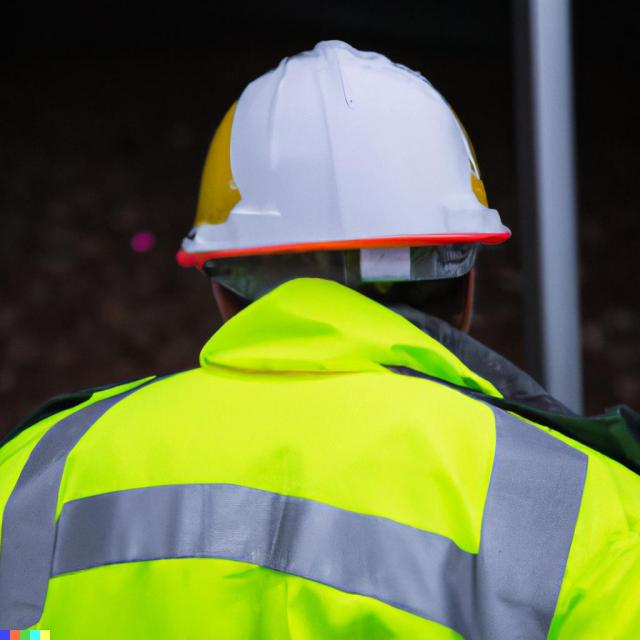Reflective-Jacket: (0, 286, 611, 639)
Safety-Helmet: (175, 43, 518, 261)
